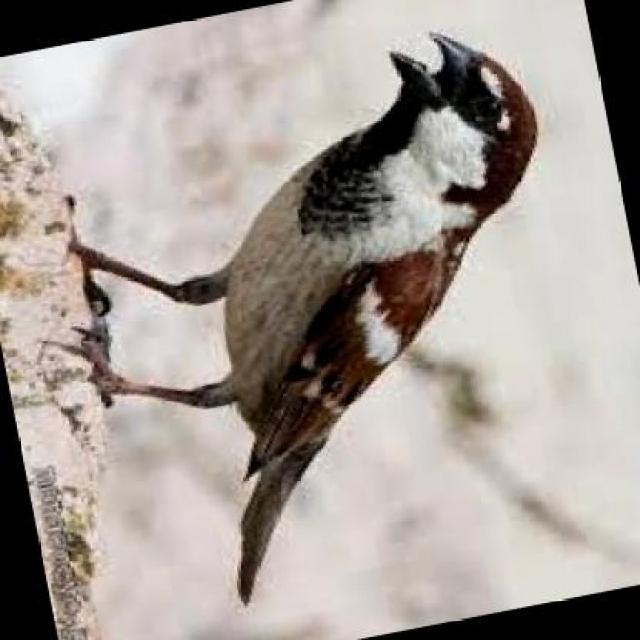Bird: (57, 26, 540, 612)
